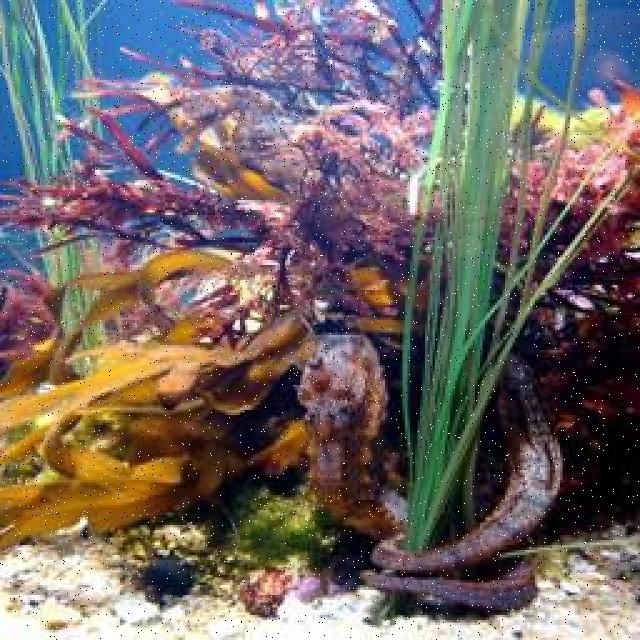aquatic plants: (0, 1, 438, 323), (400, 0, 638, 549), (0, 251, 314, 555)
reefs: (296, 335, 565, 612)
